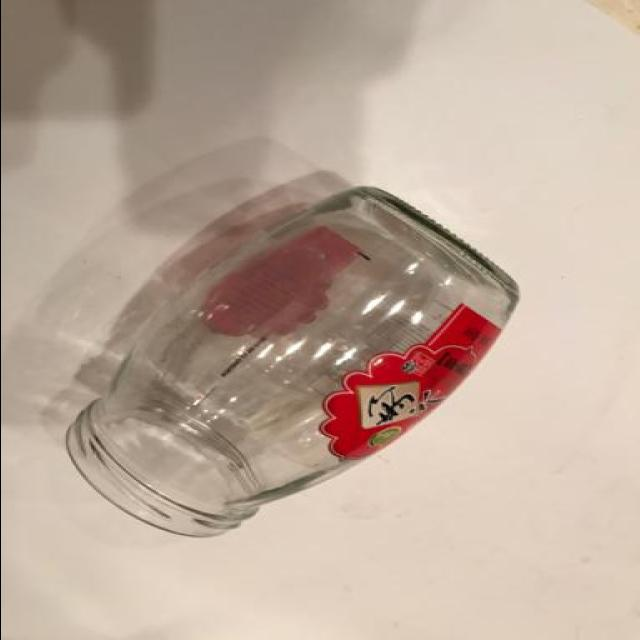glass: (54, 166, 532, 546)
